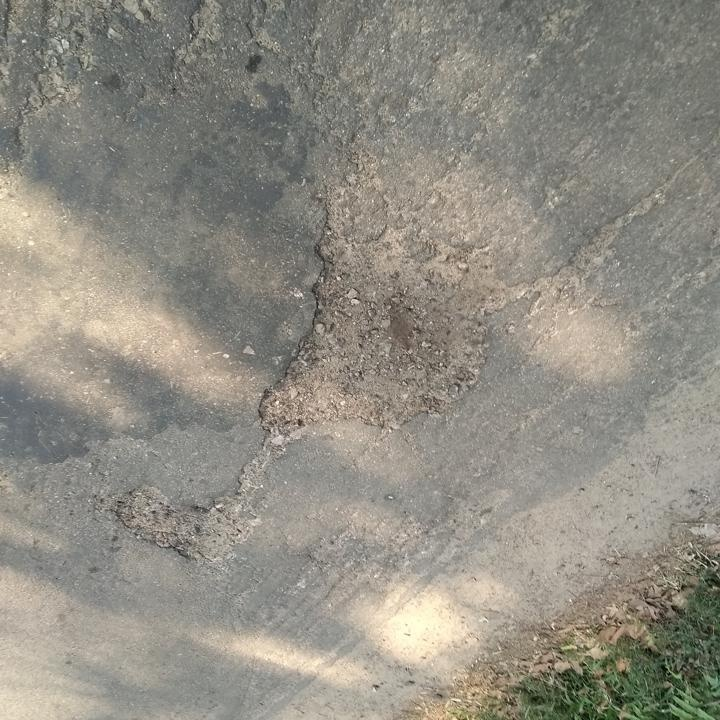pothole: (253, 219, 505, 443), (109, 486, 253, 574)
